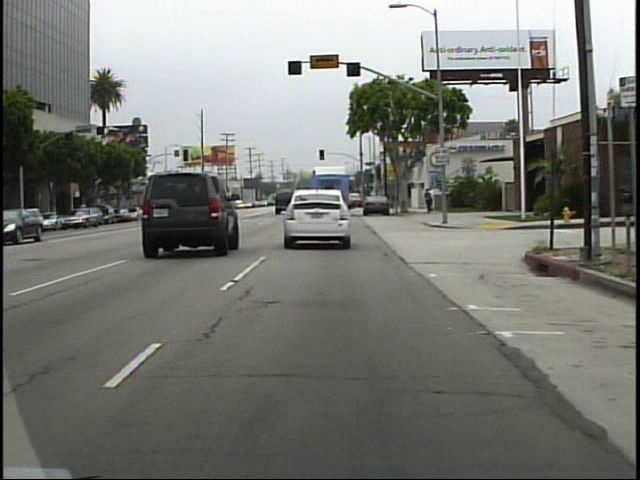person: (423, 187, 434, 215), (430, 187, 438, 213)
